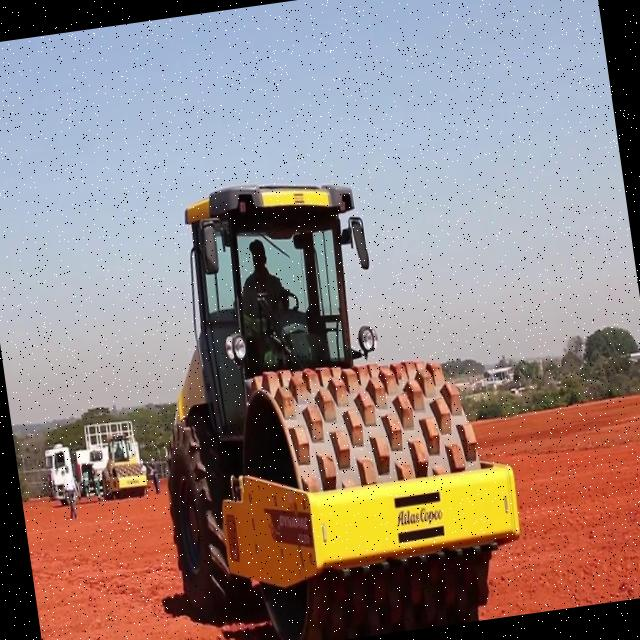Roller: (124, 155, 522, 640), (98, 431, 146, 503)
